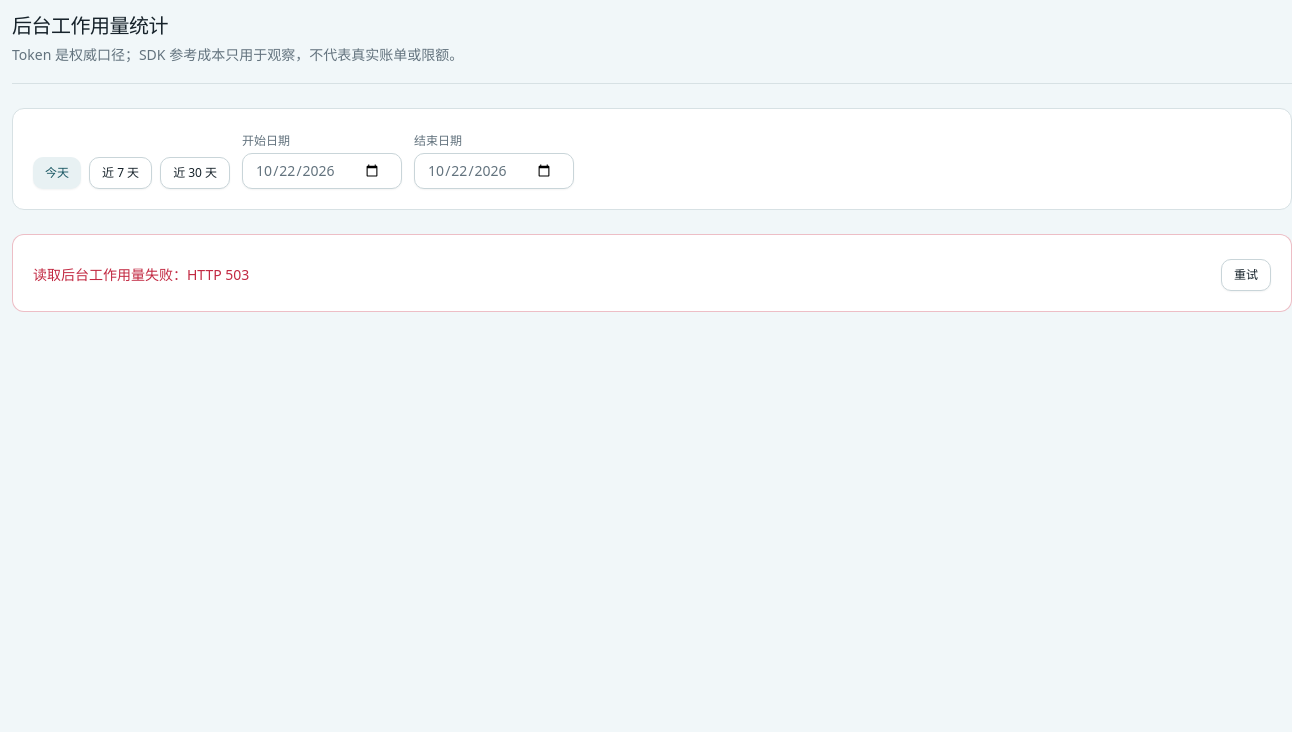
Test: background agent usage page › 展示查询错误并允许重试
Expected: the text "读取后台工作用量失败：HTTP 503" is shown, [33,265,249,285]
What coordinates should you click on to do the following:
click the button "重试"
I would click on:
 (1246, 275)
Its box is [1221,259,1271,291].
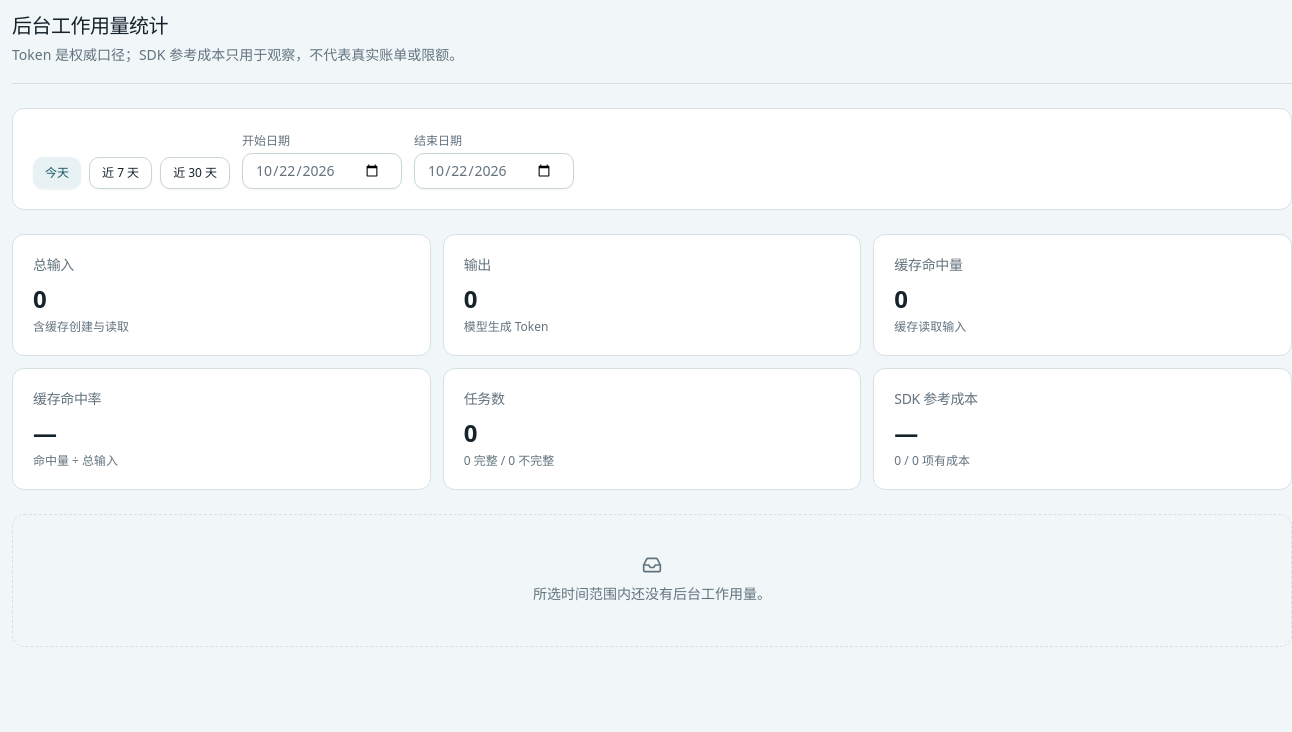
Expected: the text "所选时间范围内还没有后台工作用量。" is shown, [533,583,771,606]
